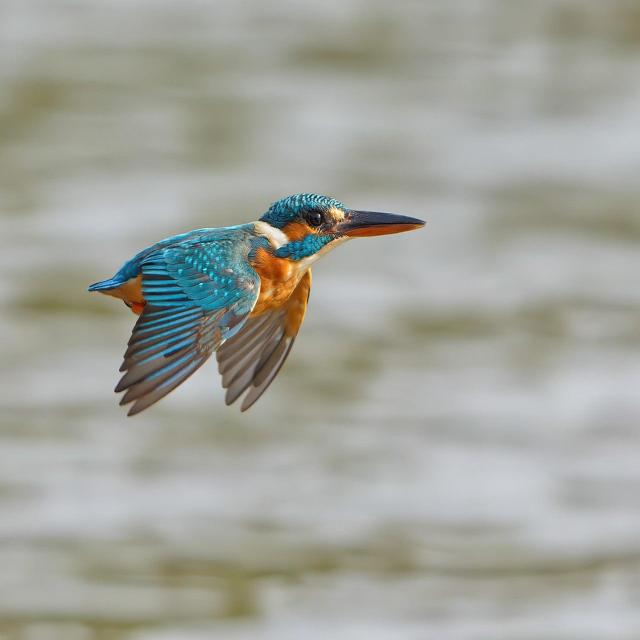kingfisher: (74, 177, 430, 427)
